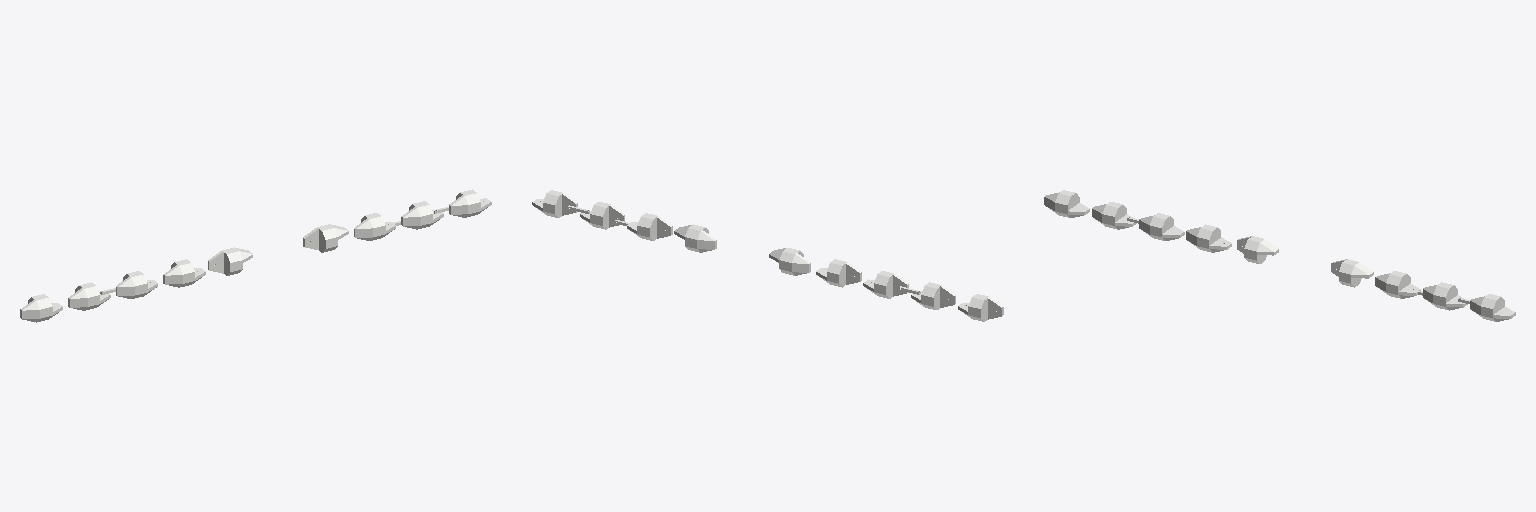
The robot description file, URDF, robot "NEKE":
<?xml version="1.0" encoding="utf-8"?>
<!-- This URDF was automatically created by SolidWorks to URDF Exporter! Originally created by Stephen Brawner ([email redacted]) 
     Commit Version: 1.6.0-4-g7f85cfe  Build Version: 1.6.7995.38578
     For more information, please see http://wiki.ros.org/sw_urdf_exporter -->
<robot
  name="NEKE">
  <link
    name="base_link">
    <inertial>
      <origin
        xyz="-1.2976 0.11003 0.0092789"
        rpy="0 0 0" />
      <mass
        value="0.3852" />
      <inertia
        ixx="0.00028326"
        ixy="2.106E-05"
        ixz="2.106E-05"
        iyy="0.00026846"
        iyz="-6.294E-21"
        izz="0.00026846" />
    </inertial>
    <visual>
      <origin
        xyz="0 0 0"
        rpy="0 0 0" />
      <geometry>
        <mesh
          filename="package://NEKE/meshes/base_link.STL" />
      </geometry>
      <material
        name="">
        <color
          rgba="0.96471 0.96471 0.95294 1" />
      </material>
    </visual>
    <collision>
      <origin
        xyz="0 0 0"
        rpy="0 0 0" />
      <geometry>
        <mesh
          filename="package://NEKE/meshes/base_link.STL" />
      </geometry>
    </collision>
  </link>
  <link
    name="barra1">
    <inertial>
      <origin
        xyz="0.034 0.005 -8.6736E-19"
        rpy="0 0 0" />
      <mass
        value="0.0074345" />
      <inertia
        ixx="1.2735E-07"
        ixy="1.7213E-22"
        ixz="-2.5526E-23"
        iyy="3.6754E-06"
        iyz="-2.3507E-24"
        izz="3.6754E-06" />
    </inertial>
    <visual>
      <origin
        xyz="0 0 0"
        rpy="0 0 0" />
      <geometry>
        <mesh
          filename="package://NEKE/meshes/barra1.STL" />
      </geometry>
      <material
        name="">
        <color
          rgba="0.96471 0.96471 0.95294 1" />
      </material>
    </visual>
    <collision>
      <origin
        xyz="0 0 0"
        rpy="0 0 0" />
      <geometry>
        <mesh
          filename="package://NEKE/meshes/barra1.STL" />
      </geometry>
    </collision>
  </link>
  <joint
    name="yaw1"
    type="revolute">
    <origin
      xyz="-1.241 -0.0064187 0.10789"
      rpy="1.5708 0 0" />
    <parent
      link="base_link" />
    <child
      link="barra1" />
    <axis
      xyz="0 1 0" />
    <limit
      lower="0"
      upper="0"
      effort="0"
      velocity="0" />
  </joint>
  <link
    name="modulo2">
    <inertial>
      <origin
        xyz="0.05665 -0.0028602 -0.0021398"
        rpy="0 0 0" />
      <mass
        value="0.3852" />
      <inertia
        ixx="0.00028326"
        ixy="2.106E-05"
        ixz="2.106E-05"
        iyy="0.00026846"
        iyz="-6.7483E-21"
        izz="0.00026846" />
    </inertial>
    <visual>
      <origin
        xyz="0 0 0"
        rpy="0 0 0" />
      <geometry>
        <mesh
          filename="package://NEKE/meshes/modulo2.STL" />
      </geometry>
      <material
        name="">
        <color
          rgba="0.96471 0.96471 0.95294 1" />
      </material>
    </visual>
    <collision>
      <origin
        xyz="0 0 0"
        rpy="0 0 0" />
      <geometry>
        <mesh
          filename="package://NEKE/meshes/modulo2.STL" />
      </geometry>
    </collision>
  </link>
  <joint
    name="pitch1"
    type="revolute">
    <origin
      xyz="0.068 0.005 0.005"
      rpy="0 0 0" />
    <parent
      link="barra1" />
    <child
      link="modulo2" />
    <axis
      xyz="0 0 1" />
    <limit
      lower="0"
      upper="0"
      effort="0"
      velocity="0" />
  </joint>
  <link
    name="barra2">
    <inertial>
      <origin
        xyz="0.034 0.005 -8.6736E-19"
        rpy="0 0 0" />
      <mass
        value="0.0074345" />
      <inertia
        ixx="1.2735E-07"
        ixy="1.7213E-22"
        ixz="-2.5526E-23"
        iyy="3.6754E-06"
        iyz="-2.3507E-24"
        izz="3.6754E-06" />
    </inertial>
    <visual>
      <origin
        xyz="0 0 0"
        rpy="0 0 0" />
      <geometry>
        <mesh
          filename="package://NEKE/meshes/barra2.STL" />
      </geometry>
      <material
        name="">
        <color
          rgba="0.96471 0.96471 0.95294 1" />
      </material>
    </visual>
    <collision>
      <origin
        xyz="0 0 0"
        rpy="0 0 0" />
      <geometry>
        <mesh
          filename="package://NEKE/meshes/barra2.STL" />
      </geometry>
    </collision>
  </link>
  <joint
    name="yaw2"
    type="revolute">
    <origin
      xyz="0.1133 -0.005 -0.005"
      rpy="0 0 0" />
    <parent
      link="modulo2" />
    <child
      link="barra2" />
    <axis
      xyz="0 1 0" />
    <limit
      lower="0"
      upper="0"
      effort="0"
      velocity="0" />
  </joint>
  <link
    name="modulo3">
    <inertial>
      <origin
        xyz="0.05665 -0.0028602 -0.0021398"
        rpy="0 0 0" />
      <mass
        value="0.3852" />
      <inertia
        ixx="0.00028326"
        ixy="2.106E-05"
        ixz="2.106E-05"
        iyy="0.00026846"
        iyz="-2.2502E-22"
        izz="0.00026846" />
    </inertial>
    <visual>
      <origin
        xyz="0 0 0"
        rpy="0 0 0" />
      <geometry>
        <mesh
          filename="package://NEKE/meshes/modulo3.STL" />
      </geometry>
      <material
        name="">
        <color
          rgba="0.96471 0.96471 0.95294 1" />
      </material>
    </visual>
    <collision>
      <origin
        xyz="0 0 0"
        rpy="0 0 0" />
      <geometry>
        <mesh
          filename="package://NEKE/meshes/modulo3.STL" />
      </geometry>
    </collision>
  </link>
  <joint
    name="pitch2"
    type="revolute">
    <origin
      xyz="0.068 0.005 0.005"
      rpy="0 0 0" />
    <parent
      link="barra2" />
    <child
      link="modulo3" />
    <axis
      xyz="0 0 1" />
    <limit
      lower="0"
      upper="0"
      effort="0"
      velocity="0" />
  </joint>
  <link
    name="barra3">
    <inertial>
      <origin
        xyz="0.034 0.005 -8.6736E-19"
        rpy="0 0 0" />
      <mass
        value="0.0074345" />
      <inertia
        ixx="1.2735E-07"
        ixy="1.7213E-22"
        ixz="-2.5849E-23"
        iyy="3.6754E-06"
        iyz="-2.3507E-24"
        izz="3.6754E-06" />
    </inertial>
    <visual>
      <origin
        xyz="0 0 0"
        rpy="0 0 0" />
      <geometry>
        <mesh
          filename="package://NEKE/meshes/barra3.STL" />
      </geometry>
      <material
        name="">
        <color
          rgba="0.96471 0.96471 0.95294 1" />
      </material>
    </visual>
    <collision>
      <origin
        xyz="0 0 0"
        rpy="0 0 0" />
      <geometry>
        <mesh
          filename="package://NEKE/meshes/barra3.STL" />
      </geometry>
    </collision>
  </link>
  <joint
    name="yaw3"
    type="revolute">
    <origin
      xyz="0.1133 -0.005 -0.005"
      rpy="0 0 0" />
    <parent
      link="modulo3" />
    <child
      link="barra3" />
    <axis
      xyz="0 1 0" />
    <limit
      lower="0"
      upper="0"
      effort="0"
      velocity="0" />
  </joint>
  <link
    name="modulo4">
    <inertial>
      <origin
        xyz="0.05665 -0.0028602 -0.0021398"
        rpy="0 0 0" />
      <mass
        value="0.3852" />
      <inertia
        ixx="0.00028326"
        ixy="2.106E-05"
        ixz="2.106E-05"
        iyy="0.00026846"
        iyz="-7.0418E-21"
        izz="0.00026846" />
    </inertial>
    <visual>
      <origin
        xyz="0 0 0"
        rpy="0 0 0" />
      <geometry>
        <mesh
          filename="package://NEKE/meshes/modulo4.STL" />
      </geometry>
      <material
        name="">
        <color
          rgba="0.96471 0.96471 0.95294 1" />
      </material>
    </visual>
    <collision>
      <origin
        xyz="0 0 0"
        rpy="0 0 0" />
      <geometry>
        <mesh
          filename="package://NEKE/meshes/modulo4.STL" />
      </geometry>
    </collision>
  </link>
  <joint
    name="pitch3"
    type="revolute">
    <origin
      xyz="0.068 0.005 0.005"
      rpy="0 0 0" />
    <parent
      link="barra3" />
    <child
      link="modulo4" />
    <axis
      xyz="0 0 1" />
    <limit
      lower="0"
      upper="0"
      effort="0"
      velocity="0" />
  </joint>
  <link
    name="barra4">
    <inertial>
      <origin
        xyz="0.034 0.005 -8.6736E-19"
        rpy="0 0 0" />
      <mass
        value="0.0074345" />
      <inertia
        ixx="1.2735E-07"
        ixy="1.7226E-22"
        ixz="-2.5526E-23"
        iyy="3.6754E-06"
        iyz="-2.3507E-24"
        izz="3.6754E-06" />
    </inertial>
    <visual>
      <origin
        xyz="0 0 0"
        rpy="0 0 0" />
      <geometry>
        <mesh
          filename="package://NEKE/meshes/barra4.STL" />
      </geometry>
      <material
        name="">
        <color
          rgba="0.96471 0.96471 0.95294 1" />
      </material>
    </visual>
    <collision>
      <origin
        xyz="0 0 0"
        rpy="0 0 0" />
      <geometry>
        <mesh
          filename="package://NEKE/meshes/barra4.STL" />
      </geometry>
    </collision>
  </link>
  <joint
    name="yaw4"
    type="revolute">
    <origin
      xyz="0.1133 -0.005 -0.005"
      rpy="0 0 0" />
    <parent
      link="modulo4" />
    <child
      link="barra4" />
    <axis
      xyz="0 1 0" />
    <limit
      lower="0"
      upper="0"
      effort="0"
      velocity="0" />
  </joint>
  <link
    name="modulo5">
    <inertial>
      <origin
        xyz="0.05665 -0.0028602 -0.0021398"
        rpy="0 0 0" />
      <mass
        value="0.3852" />
      <inertia
        ixx="0.00028326"
        ixy="2.106E-05"
        ixz="2.106E-05"
        iyy="0.00026846"
        iyz="-6.5131E-21"
        izz="0.00026846" />
    </inertial>
    <visual>
      <origin
        xyz="0 0 0"
        rpy="0 0 0" />
      <geometry>
        <mesh
          filename="package://NEKE/meshes/modulo5.STL" />
      </geometry>
      <material
        name="">
        <color
          rgba="0.96471 0.96471 0.95294 1" />
      </material>
    </visual>
    <collision>
      <origin
        xyz="0 0 0"
        rpy="0 0 0" />
      <geometry>
        <mesh
          filename="package://NEKE/meshes/modulo5.STL" />
      </geometry>
    </collision>
  </link>
  <joint
    name="pitch4"
    type="revolute">
    <origin
      xyz="0.068 0.005 0.005"
      rpy="0 0 0" />
    <parent
      link="barra4" />
    <child
      link="modulo5" />
    <axis
      xyz="0 0 1" />
    <limit
      lower="0"
      upper="0"
      effort="0"
      velocity="0" />
  </joint>
  <link
    name="barra5">
    <inertial>
      <origin
        xyz="0.034 0.005 -8.6736E-19"
        rpy="0 0 0" />
      <mass
        value="0.0074345" />
      <inertia
        ixx="1.2735E-07"
        ixy="1.0048E-22"
        ixz="-5.3314E-23"
        iyy="3.6754E-06"
        iyz="-5.8588E-24"
        izz="3.6754E-06" />
    </inertial>
    <visual>
      <origin
        xyz="0 0 0"
        rpy="0 0 0" />
      <geometry>
        <mesh
          filename="package://NEKE/meshes/barra5.STL" />
      </geometry>
      <material
        name="">
        <color
          rgba="0.96471 0.96471 0.95294 1" />
      </material>
    </visual>
    <collision>
      <origin
        xyz="0 0 0"
        rpy="0 0 0" />
      <geometry>
        <mesh
          filename="package://NEKE/meshes/barra5.STL" />
      </geometry>
    </collision>
  </link>
  <joint
    name="yaw5"
    type="revolute">
    <origin
      xyz="0.1133 -0.005 -0.005"
      rpy="0 0 0" />
    <parent
      link="modulo5" />
    <child
      link="barra5" />
    <axis
      xyz="0 1 0" />
    <limit
      lower="0"
      upper="0"
      effort="0"
      velocity="0" />
  </joint>
  <link
    name="modulo6">
    <inertial>
      <origin
        xyz="0.05665 -0.0028602 -0.0021398"
        rpy="0 0 0" />
      <mass
        value="0.3852" />
      <inertia
        ixx="0.00028326"
        ixy="2.106E-05"
        ixz="2.106E-05"
        iyy="0.00026846"
        iyz="-8.2183E-21"
        izz="0.00026846" />
    </inertial>
    <visual>
      <origin
        xyz="0 0 0"
        rpy="0 0 0" />
      <geometry>
        <mesh
          filename="package://NEKE/meshes/modulo6.STL" />
      </geometry>
      <material
        name="">
        <color
          rgba="0.96471 0.96471 0.95294 1" />
      </material>
    </visual>
    <collision>
      <origin
        xyz="0 0 0"
        rpy="0 0 0" />
      <geometry>
        <mesh
          filename="package://NEKE/meshes/modulo6.STL" />
      </geometry>
    </collision>
  </link>
  <joint
    name="pitch5"
    type="revolute">
    <origin
      xyz="0.068 0.005 0.005"
      rpy="0 0 0" />
    <parent
      link="barra5" />
    <child
      link="modulo6" />
    <axis
      xyz="0 0 1" />
    <limit
      lower="0"
      upper="0"
      effort="0"
      velocity="0" />
  </joint>
  <link
    name="barra6">
    <inertial>
      <origin
        xyz="0.034 0.005 -8.6736E-19"
        rpy="0 0 0" />
      <mass
        value="0.0074345" />
      <inertia
        ixx="1.2735E-07"
        ixy="1.3382E-22"
        ixz="-1.2246E-22"
        iyy="3.6754E-06"
        iyz="2.9644E-24"
        izz="3.6754E-06" />
    </inertial>
    <visual>
      <origin
        xyz="0 0 0"
        rpy="0 0 0" />
      <geometry>
        <mesh
          filename="package://NEKE/meshes/barra6.STL" />
      </geometry>
      <material
        name="">
        <color
          rgba="0.96471 0.96471 0.95294 1" />
      </material>
    </visual>
    <collision>
      <origin
        xyz="0 0 0"
        rpy="0 0 0" />
      <geometry>
        <mesh
          filename="package://NEKE/meshes/barra6.STL" />
      </geometry>
    </collision>
  </link>
  <joint
    name="yaw6"
    type="revolute">
    <origin
      xyz="0.1133 -0.005 -0.005"
      rpy="0 0 0" />
    <parent
      link="modulo6" />
    <child
      link="barra6" />
    <axis
      xyz="0 1 0" />
    <limit
      lower="0"
      upper="0"
      effort="0"
      velocity="0" />
  </joint>
  <link
    name="modulo7">
    <inertial>
      <origin
        xyz="0.05665 -0.0028602 -0.0021398"
        rpy="0 0 0" />
      <mass
        value="0.3852" />
      <inertia
        ixx="0.00028326"
        ixy="2.106E-05"
        ixz="2.106E-05"
        iyy="0.00026846"
        iyz="-1.1904E-21"
        izz="0.00026846" />
    </inertial>
    <visual>
      <origin
        xyz="0 0 0"
        rpy="0 0 0" />
      <geometry>
        <mesh
          filename="package://NEKE/meshes/modulo7.STL" />
      </geometry>
      <material
        name="">
        <color
          rgba="0.96471 0.96471 0.95294 1" />
      </material>
    </visual>
    <collision>
      <origin
        xyz="0 0 0"
        rpy="0 0 0" />
      <geometry>
        <mesh
          filename="package://NEKE/meshes/modulo7.STL" />
      </geometry>
    </collision>
  </link>
  <joint
    name="pitch6"
    type="revolute">
    <origin
      xyz="0.068 0.005 0.005"
      rpy="0 0 0" />
    <parent
      link="barra6" />
    <child
      link="modulo7" />
    <axis
      xyz="0 0 1" />
    <limit
      lower="0"
      upper="0"
      effort="0"
      velocity="0" />
  </joint>
  <link
    name="barra7">
    <inertial>
      <origin
        xyz="0.034 0.005 0"
        rpy="0 0 0" />
      <mass
        value="0.0074345" />
      <inertia
        ixx="1.2735E-07"
        ixy="1.4014E-22"
        ixz="-5.7838E-23"
        iyy="3.6754E-06"
        iyz="-4.9553E-24"
        izz="3.6754E-06" />
    </inertial>
    <visual>
      <origin
        xyz="0 0 0"
        rpy="0 0 0" />
      <geometry>
        <mesh
          filename="package://NEKE/meshes/barra7.STL" />
      </geometry>
      <material
        name="">
        <color
          rgba="0.96471 0.96471 0.95294 1" />
      </material>
    </visual>
    <collision>
      <origin
        xyz="0 0 0"
        rpy="0 0 0" />
      <geometry>
        <mesh
          filename="package://NEKE/meshes/barra7.STL" />
      </geometry>
    </collision>
  </link>
  <joint
    name="yaw7"
    type="revolute">
    <origin
      xyz="0.1133 -0.005 -0.005"
      rpy="0 0 0" />
    <parent
      link="modulo7" />
    <child
      link="barra7" />
    <axis
      xyz="0 1 0" />
    <limit
      lower="0"
      upper="0"
      effort="0"
      velocity="0" />
  </joint>
  <link
    name="modulo8">
    <inertial>
      <origin
        xyz="0.05665 -0.0028602 -0.0021398"
        rpy="0 0 0" />
      <mass
        value="0.3852" />
      <inertia
        ixx="0.00028326"
        ixy="2.106E-05"
        ixz="2.106E-05"
        iyy="0.00026846"
        iyz="-2.8062E-21"
        izz="0.00026846" />
    </inertial>
    <visual>
      <origin
        xyz="0 0 0"
        rpy="0 0 0" />
      <geometry>
        <mesh
          filename="package://NEKE/meshes/modulo8.STL" />
      </geometry>
      <material
        name="">
        <color
          rgba="0.96471 0.96471 0.95294 1" />
      </material>
    </visual>
    <collision>
      <origin
        xyz="0 0 0"
        rpy="0 0 0" />
      <geometry>
        <mesh
          filename="package://NEKE/meshes/modulo8.STL" />
      </geometry>
    </collision>
  </link>
  <joint
    name="pitch7"
    type="revolute">
    <origin
      xyz="0.068 0.005 0.005"
      rpy="0 0 0" />
    <parent
      link="barra7" />
    <child
      link="modulo8" />
    <axis
      xyz="0 0 1" />
    <limit
      lower="0"
      upper="0"
      effort="0"
      velocity="0" />
  </joint>
  <link
    name="barra8">
    <inertial>
      <origin
        xyz="0.034 0.005 -8.6736E-19"
        rpy="0 0 0" />
      <mass
        value="0.0074345" />
      <inertia
        ixx="1.2735E-07"
        ixy="6.6E-23"
        ixz="1.7287E-23"
        iyy="3.6754E-06"
        iyz="-2.3507E-24"
        izz="3.6754E-06" />
    </inertial>
    <visual>
      <origin
        xyz="0 0 0"
        rpy="0 0 0" />
      <geometry>
        <mesh
          filename="package://NEKE/meshes/barra8.STL" />
      </geometry>
      <material
        name="">
        <color
          rgba="0.96471 0.96471 0.95294 1" />
      </material>
    </visual>
    <collision>
      <origin
        xyz="0 0 0"
        rpy="0 0 0" />
      <geometry>
        <mesh
          filename="package://NEKE/meshes/barra8.STL" />
      </geometry>
    </collision>
  </link>
  <joint
    name="yaw8"
    type="revolute">
    <origin
      xyz="0.1133 -0.005 -0.005"
      rpy="0 0 0" />
    <parent
      link="modulo8" />
    <child
      link="barra8" />
    <axis
      xyz="0 1 0" />
    <limit
      lower="0"
      upper="0"
      effort="0"
      velocity="0" />
  </joint>
  <link
    name="modulo9">
    <inertial>
      <origin
        xyz="0.05665 -0.0028602 -0.0021398"
        rpy="0 0 0" />
      <mass
        value="0.3852" />
      <inertia
        ixx="0.00028326"
        ixy="2.106E-05"
        ixz="2.106E-05"
        iyy="0.00026846"
        iyz="1.187E-21"
        izz="0.00026846" />
    </inertial>
    <visual>
      <origin
        xyz="0 0 0"
        rpy="0 0 0" />
      <geometry>
        <mesh
          filename="package://NEKE/meshes/modulo9.STL" />
      </geometry>
      <material
        name="">
        <color
          rgba="0.96471 0.96471 0.95294 1" />
      </material>
    </visual>
    <collision>
      <origin
        xyz="0 0 0"
        rpy="0 0 0" />
      <geometry>
        <mesh
          filename="package://NEKE/meshes/modulo9.STL" />
      </geometry>
    </collision>
  </link>
  <joint
    name="pitch8"
    type="revolute">
    <origin
      xyz="0.068 0.005 0.005"
      rpy="0 0 0" />
    <parent
      link="barra8" />
    <child
      link="modulo9" />
    <axis
      xyz="0 0 1" />
    <limit
      lower="0"
      upper="0"
      effort="0"
      velocity="0" />
  </joint>
  <link
    name="barra9">
    <inertial>
      <origin
        xyz="0.034 0.005 0"
        rpy="0 0 0" />
      <mass
        value="0.0074345" />
      <inertia
        ixx="1.2735E-07"
        ixy="1.4014E-22"
        ixz="-5.8161E-23"
        iyy="3.6754E-06"
        iyz="-4.9553E-24"
        izz="3.6754E-06" />
    </inertial>
    <visual>
      <origin
        xyz="0 0 0"
        rpy="0 0 0" />
      <geometry>
        <mesh
          filename="package://NEKE/meshes/barra9.STL" />
      </geometry>
      <material
        name="">
        <color
          rgba="0.96471 0.96471 0.95294 1" />
      </material>
    </visual>
    <collision>
      <origin
        xyz="0 0 0"
        rpy="0 0 0" />
      <geometry>
        <mesh
          filename="package://NEKE/meshes/barra9.STL" />
      </geometry>
    </collision>
  </link>
  <joint
    name="yaw9"
    type="revolute">
    <origin
      xyz="0.1133 -0.005 -0.005"
      rpy="0 0 0" />
    <parent
      link="modulo9" />
    <child
      link="barra9" />
    <axis
      xyz="0 1 0" />
    <limit
      lower="0"
      upper="0"
      effort="0"
      velocity="0" />
  </joint>
  <link
    name="modulo10">
    <inertial>
      <origin
        xyz="0.05665 -0.0028602 -0.0021398"
        rpy="0 0 0" />
      <mass
        value="0.3852" />
      <inertia
        ixx="0.00028326"
        ixy="2.106E-05"
        ixz="2.106E-05"
        iyy="0.00026846"
        iyz="-7.919E-21"
        izz="0.00026846" />
    </inertial>
    <visual>
      <origin
        xyz="0 0 0"
        rpy="0 0 0" />
      <geometry>
        <mesh
          filename="package://NEKE/meshes/modulo10.STL" />
      </geometry>
      <material
        name="">
        <color
          rgba="0.96471 0.96471 0.95294 1" />
      </material>
    </visual>
    <collision>
      <origin
        xyz="0 0 0"
        rpy="0 0 0" />
      <geometry>
        <mesh
          filename="package://NEKE/meshes/modulo10.STL" />
      </geometry>
    </collision>
  </link>
  <joint
    name="pitch9"
    type="revolute">
    <origin
      xyz="0.068 0.005 0.005"
      rpy="0 0 0" />
    <parent
      link="barra9" />
    <child
      link="modulo10" />
    <axis
      xyz="0 0 1" />
    <limit
      lower="0"
      upper="0"
      effort="0"
      velocity="0" />
  </joint>
</robot>

--- Render facts (derived) ---
3 views of the same robot in one strip: view 1: azimuth 30°, elevation 25°; view 2: azimuth 150°, elevation 25°; view 3: azimuth 330°, elevation 25° (orthographic).
Model NEKE with 19 links and 18 joints (18 revolute), rooted at base_link, posed every joint at zero.
Links seen in each view (by area): view 1: modulo7, modulo5, base_link, modulo4, modulo10, modulo3, modulo8, modulo9, modulo2; view 2: modulo4, base_link, modulo8, modulo7, modulo5, modulo2, modulo10, modulo3, modulo9; view 3: base_link, modulo4, modulo3, modulo10, modulo8, modulo9, modulo2, modulo7, modulo5.
Boxes of the visible links, box(x1,y1,x2,y2) form: modulo7: box(303, 224, 348, 252); modulo5: box(208, 247, 252, 275); base_link: box(20, 294, 62, 322); modulo4: box(163, 259, 205, 287); modulo10: box(449, 189, 491, 217); modulo3: box(116, 271, 157, 298); modulo8: box(354, 213, 395, 240); modulo9: box(401, 201, 443, 229); modulo2: box(68, 282, 110, 310); modulo4: box(816, 259, 861, 287); base_link: box(958, 294, 1003, 321); modulo8: box(627, 213, 672, 240); modulo7: box(674, 224, 716, 252); modulo5: box(769, 248, 810, 275); modulo2: box(911, 282, 955, 309); modulo10: box(532, 190, 577, 217); modulo3: box(863, 271, 908, 298); modulo9: box(580, 202, 624, 229); base_link: box(1044, 190, 1089, 217); modulo4: box(1186, 224, 1231, 252); modulo3: box(1139, 213, 1184, 240); modulo10: box(1470, 294, 1515, 321); modulo8: box(1375, 271, 1420, 298); modulo9: box(1423, 282, 1467, 310); modulo2: box(1092, 202, 1136, 229); modulo7: box(1331, 259, 1373, 287); modulo5: box(1237, 236, 1278, 263).
Bounding box of the posed robot: 1.79 × 0.08 × 0.08 m (x, y, z).
Meshes: 19 distinct files referenced, 12 mesh visuals loaded (12 binary STL); not drawn: 7 (reference not matched to a file when rendering).
